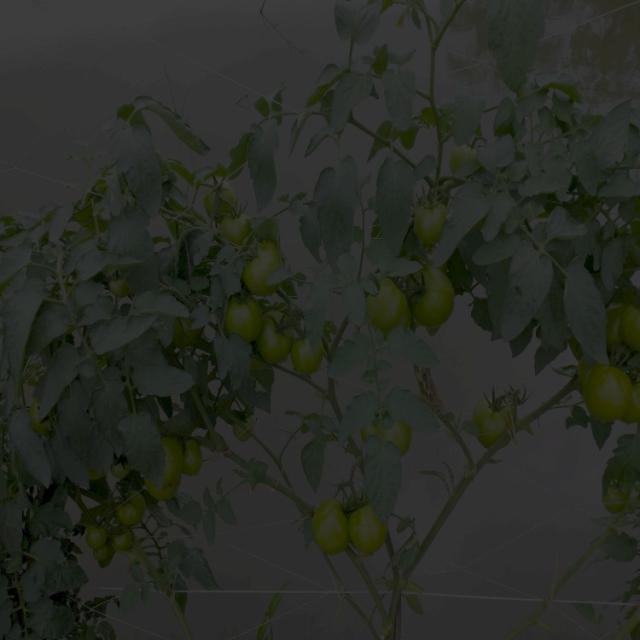tomato: (352, 406, 420, 456), (408, 266, 455, 332), (583, 366, 626, 428), (477, 394, 525, 448), (360, 272, 403, 331), (241, 245, 288, 289), (602, 303, 640, 353), (149, 439, 181, 497), (354, 508, 395, 553), (318, 494, 349, 552), (222, 293, 259, 339), (295, 333, 326, 380), (202, 175, 242, 210), (447, 145, 481, 186), (418, 204, 447, 252), (266, 315, 290, 365), (600, 472, 628, 511), (216, 214, 253, 241), (112, 500, 148, 526), (176, 311, 205, 341), (185, 447, 207, 481), (33, 402, 52, 438), (91, 528, 115, 556), (628, 374, 640, 427), (111, 276, 129, 300), (117, 456, 133, 479), (120, 533, 140, 551)
